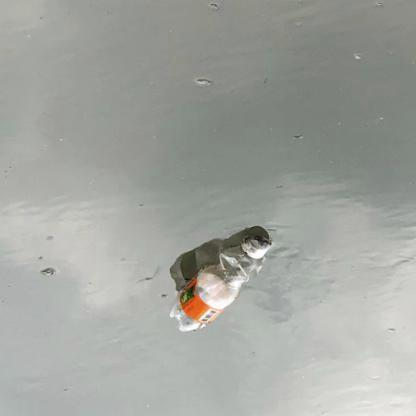Plastic: (166, 229, 273, 334)
